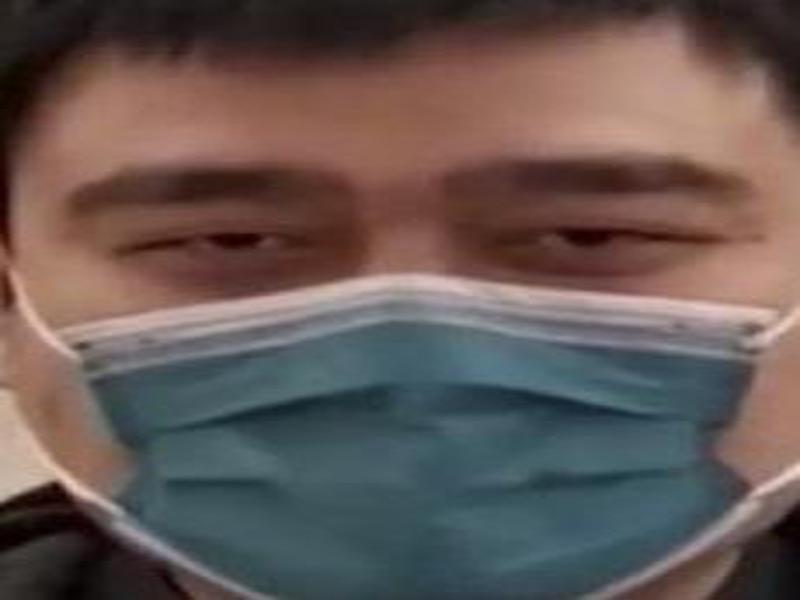with_mask: (1, 18, 796, 600)
